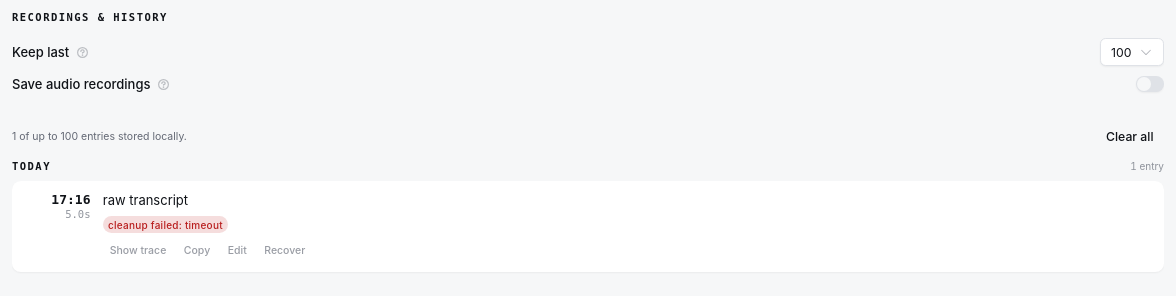
Test: HistoryTab Recover button › shows inline error and keeps Recover button available on failure
Step 1. Click the button "Recover" → (285, 251), box [257,240,312,261]
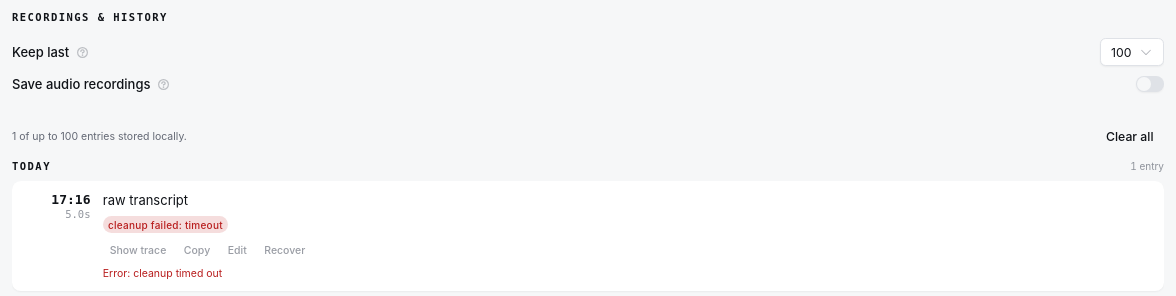
Expected: the text "Error: cleanup timed out" is shown, [103,267,222,280]
